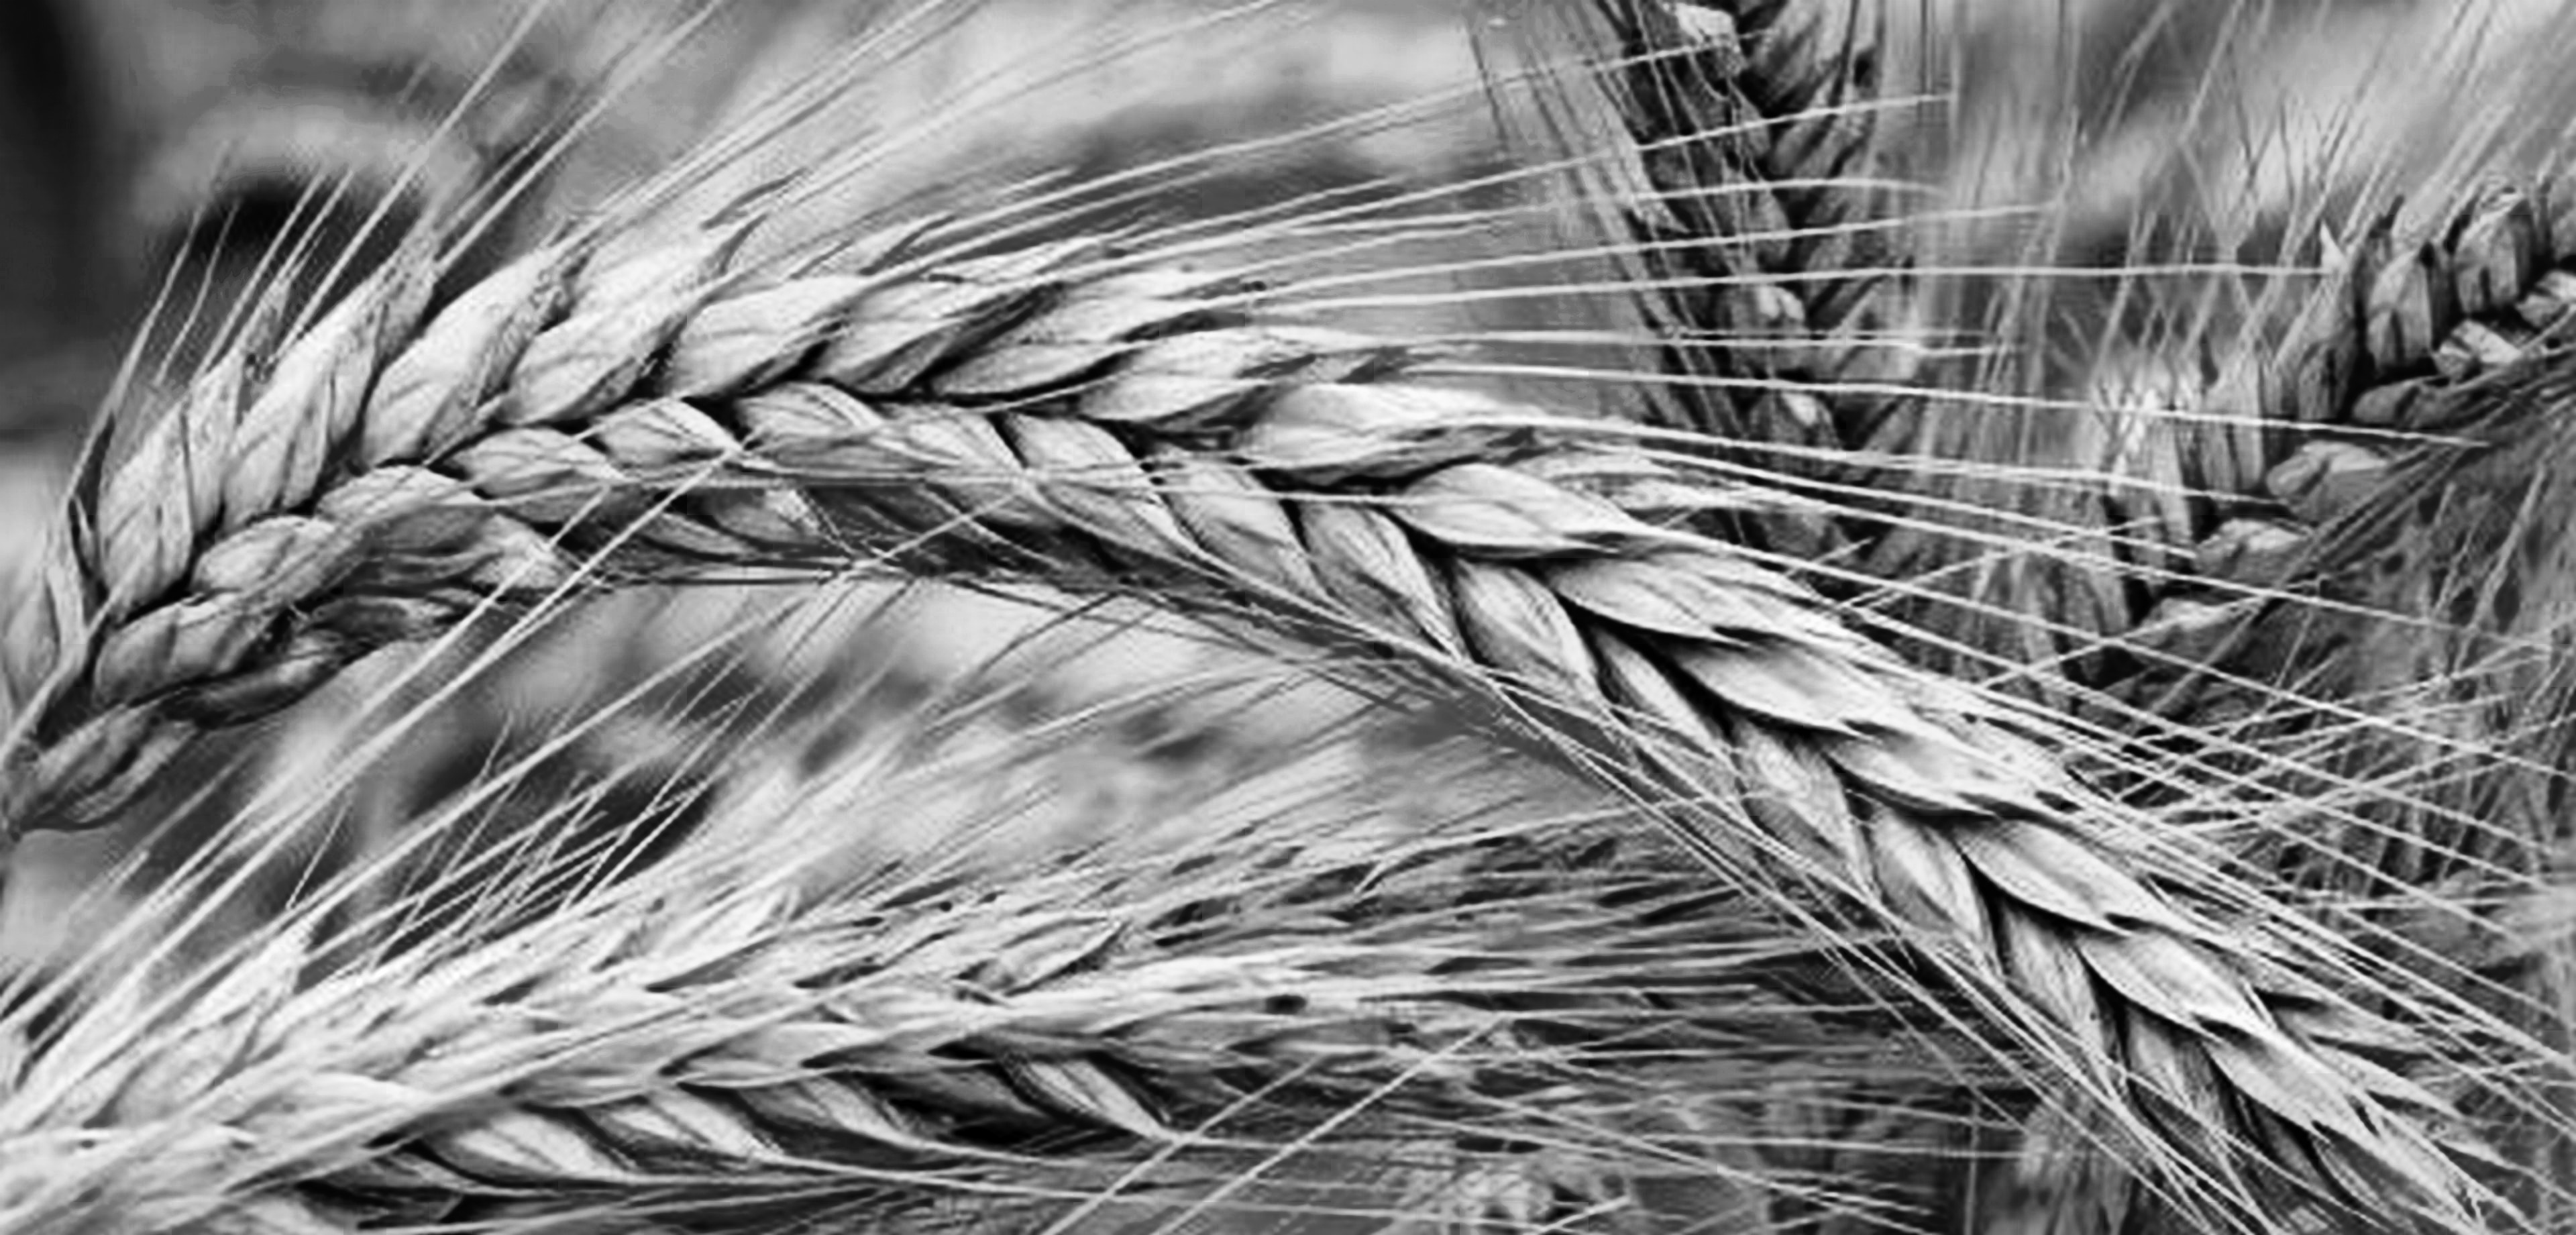Healthy Wheat: (51, 140, 2443, 1189)
